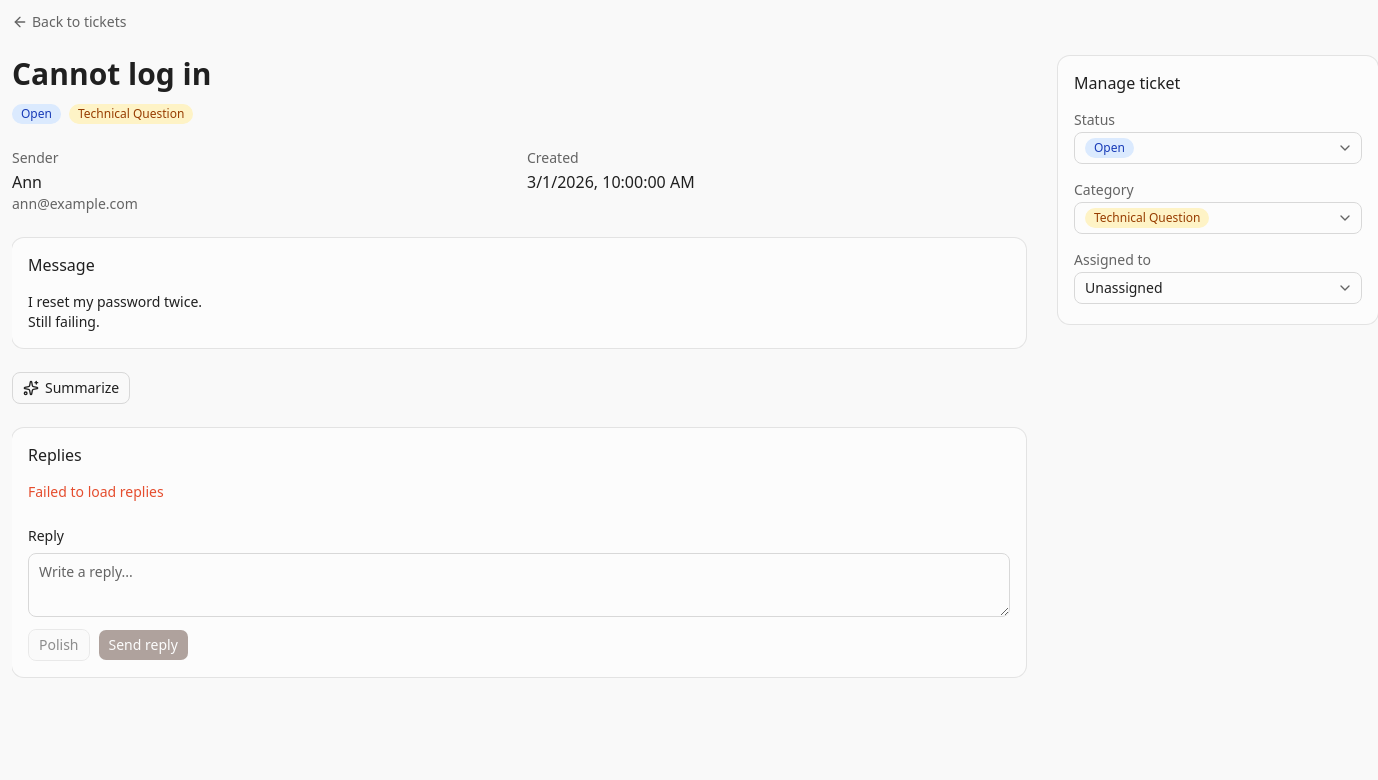
TicketDetailsPage › updating status and category › shows the server's error when an update fails
Click the dropdown named "Ticket status".
click(1109, 148)  # box [1074,132,1362,164]
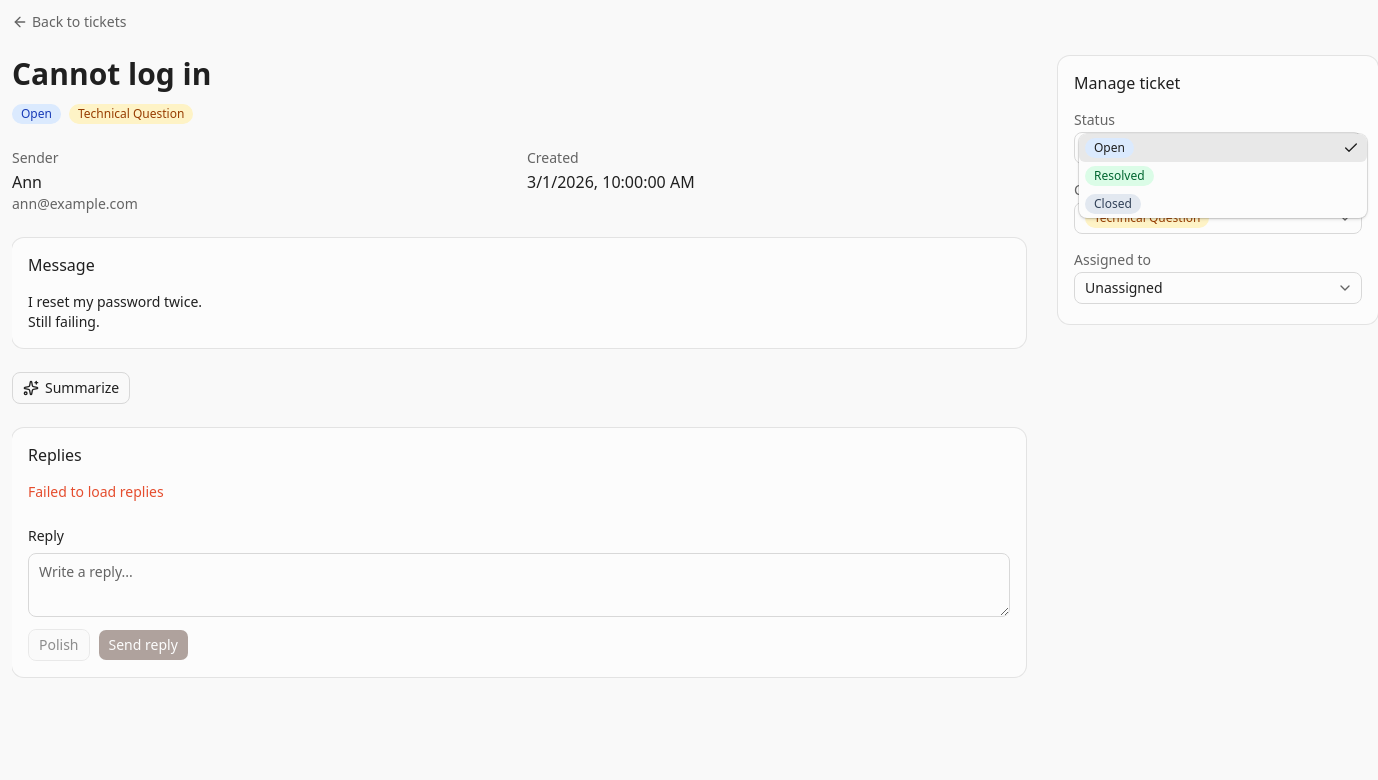
Click the option "Closed".
click(1113, 204)  # box [1085,194,1141,214]
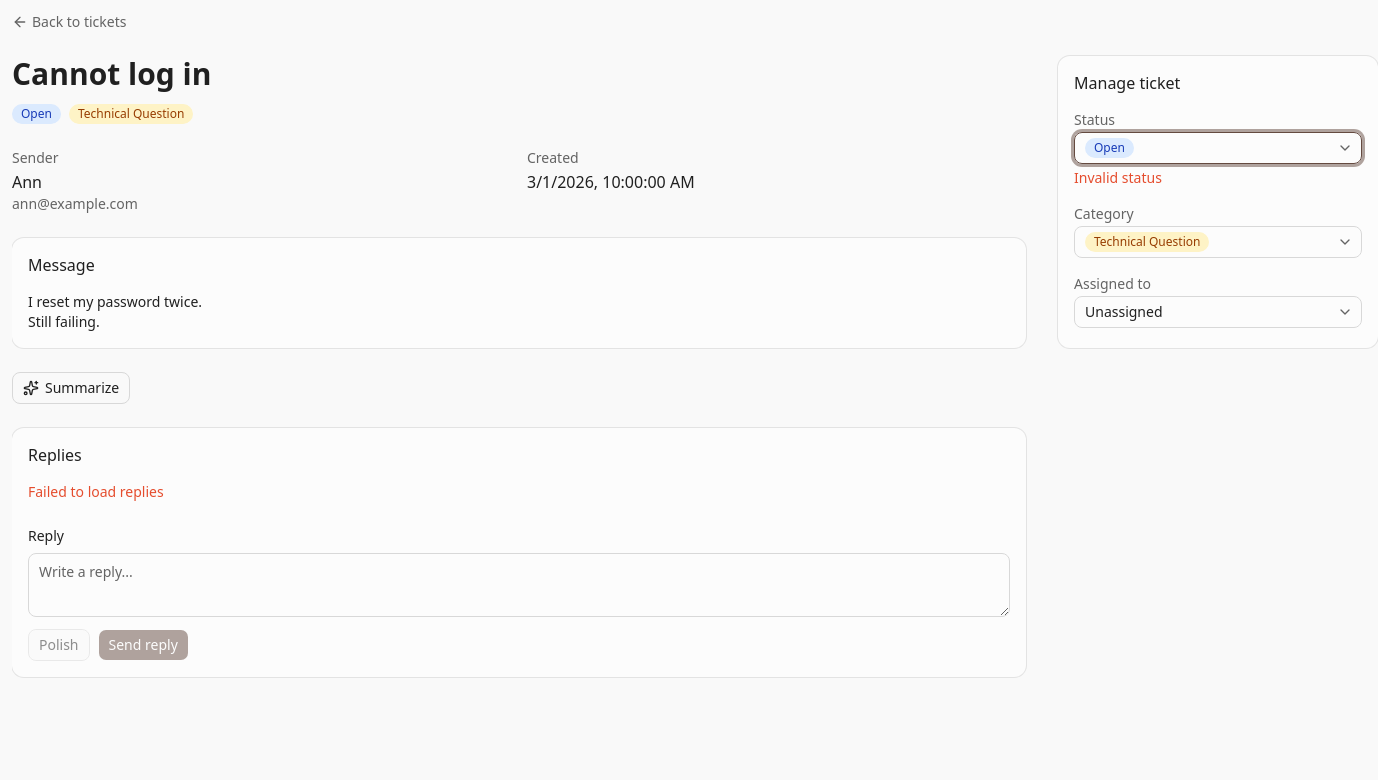
Expected: the text "Invalid status" is shown, [1074,168,1162,187]
